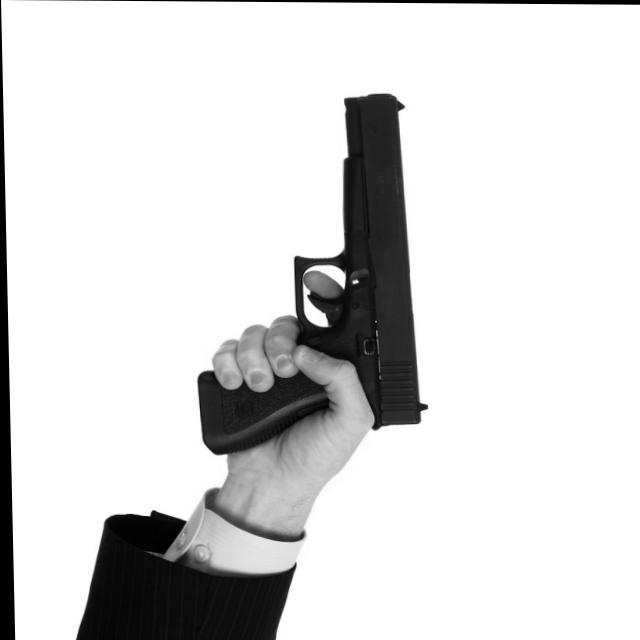handgun: (188, 90, 428, 456)
